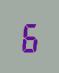six: (19, 19, 37, 53)
